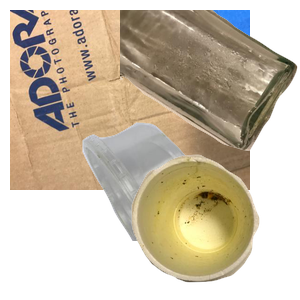cardboard: (10, 10, 250, 190)
glass: (120, 10, 300, 153)
plastic: (80, 120, 289, 300)
trash: (129, 152, 300, 300)
